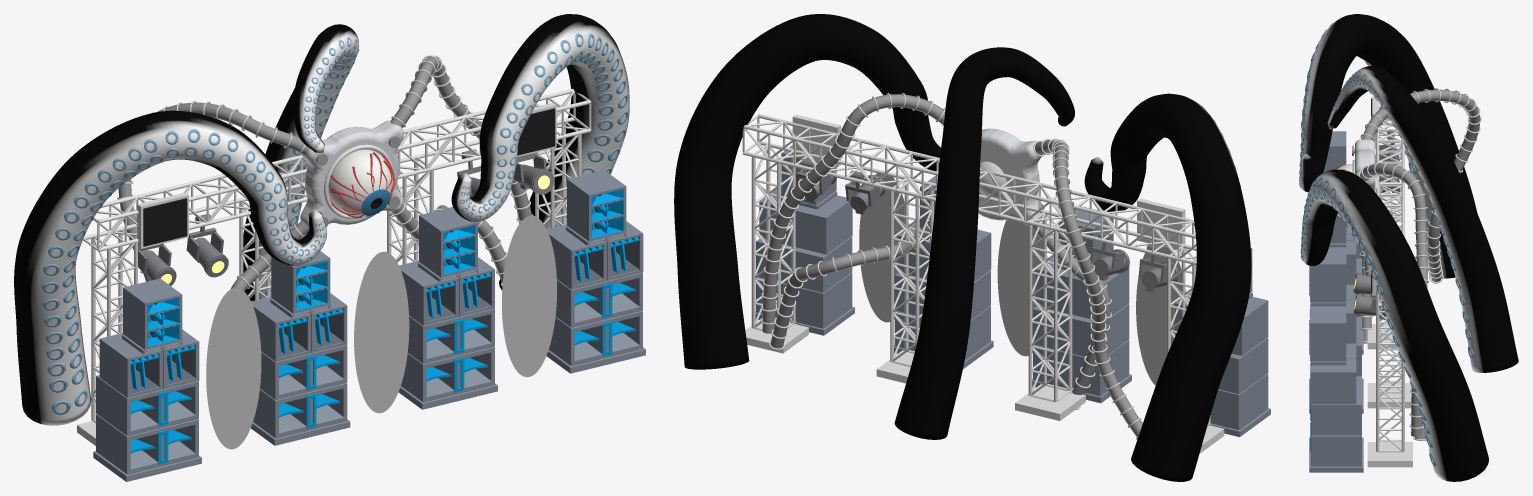
File: Colonna4.fbx
3 views of the same model, side by side, from view 1: azimuth 30°, elevation 25°; view 2: azimuth 150°, elevation 25°; view 3: azimuth 270°, elevation 25° (orthographic). The views are drawn at different scales.
Parts seen in each view (by area): view 1: Tentacolo_Sx, Tentacolo_Dx, Traliccio_Trave, Tentacolo_Centro, Cartellone_Ovale_Centro, Cartellone_Ovale_Sx, Cartellone_Ovale_Dx, Cerchio, Top_Body, Top_Body.002, Occhio, Top_Body.003 (+36 smaller); view 2: Tentacolo_Dx, Tentacolo_Sx, Tentacolo_Centro, Traliccio_Trave, Traliccio_Torre_02, Traliccio_Torre_03, PercorsoNurbs, Cartellone_Ovale_Centro, PercorsoNurbs.001, Traliccio_Torre_04, Cartellone_Ovale_Dx, Cerchio (+30 smaller); view 3: Tentacolo_Dx, Tentacolo_Centro, Tentacolo_Sx, PercorsoNurbs.001, Traliccio_Torre_04, PercorsoNurbs, Top_Body.002, Mid_1.002, Bass_Upper.002, Top_Body.003, Traliccio_Trave, Bass_Lower.002 (+16 smaller).
Boxes of the visible parts, <box> form: Tentacolo_Sx: <box>14,110,326,425</box>; Tentacolo_Dx: <box>451,14,629,290</box>; Traliccio_Trave: <box>83,88,591,251</box>; Tentacolo_Centro: <box>243,24,359,301</box>; Cartellone_Ovale_Centro: <box>354,251,409,413</box>; Cartellone_Ovale_Sx: <box>206,288,261,449</box>; Cartellone_Ovale_Dx: <box>502,215,556,377</box>; Cerchio: <box>300,120,403,228</box>; Top_Body: <box>123,278,182,349</box>; Top_Body.002: <box>567,170,626,241</box>; Occhio: <box>328,149,395,217</box>; Top_Body.003: <box>419,207,477,277</box>; Tentacolo_Dx: <box>674,14,940,369</box>; Tentacolo_Sx: <box>1084,93,1251,481</box>; Tentacolo_Centro: <box>894,47,1074,439</box>; Traliccio_Trave: <box>742,114,1196,265</box>; Traliccio_Torre_02: <box>1028,212,1072,402</box>; Traliccio_Torre_03: <box>890,178,933,366</box>; PercorsoNurbs: <box>762,94,944,333</box>; Cartellone_Ovale_Centro: <box>997,219,1047,356</box>; PercorsoNurbs.001: <box>1035,140,1142,436</box>; Traliccio_Torre_04: <box>751,144,795,330</box>; Cartellone_Ovale_Dx: <box>859,173,908,322</box>; Cerchio: <box>978,128,1042,225</box>; Tentacolo_Dx: <box>1300,169,1488,481</box>; Tentacolo_Centro: <box>1327,66,1518,372</box>; Tentacolo_Sx: <box>1299,14,1477,278</box>; PercorsoNurbs.001: <box>1361,89,1480,282</box>; Traliccio_Torre_04: <box>1376,300,1404,452</box>; PercorsoNurbs: <box>1360,163,1427,436</box>; Top_Body.002: <box>1309,308,1346,361</box>; Mid_1.002: <box>1310,358,1356,404</box>; Bass_Upper.002: <box>1311,376,1361,435</box>; Top_Body.003: <box>1309,249,1346,302</box>; Traliccio_Trave: <box>1376,102,1404,306</box>; Bass_Lower.002: <box>1311,435,1361,466</box>.
Bounding box in the file's own units: 1004 × 592 × 387.
